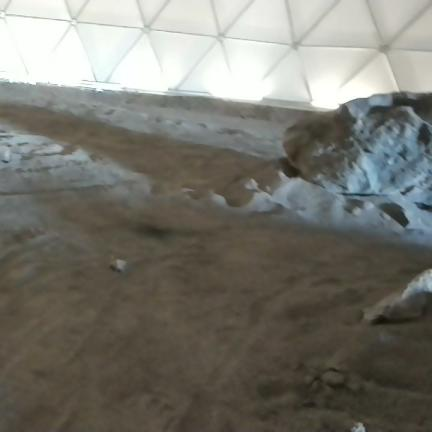Rock: (283, 93, 431, 206), (363, 269, 431, 323), (321, 371, 344, 386), (110, 259, 126, 272), (360, 201, 374, 211), (351, 207, 361, 215), (381, 213, 391, 220)
